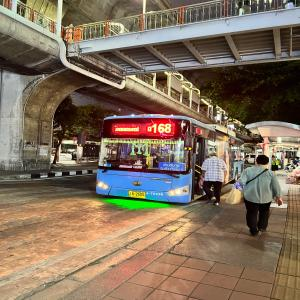BMTA-bus: (95, 114, 225, 206)
Bus Line Number: (151, 120, 173, 136)
Bus Side Number: (146, 192, 165, 196)
Destination Sign: (158, 163, 186, 170)
